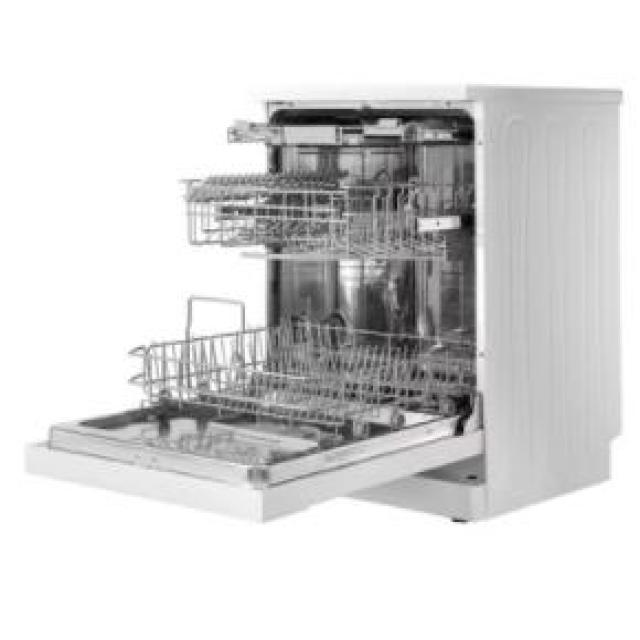dishwasher: (33, 84, 618, 526)
